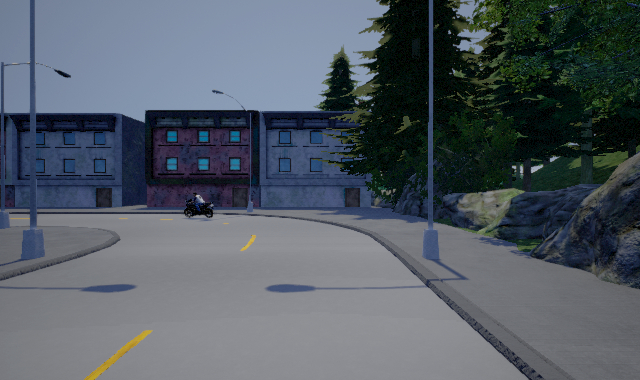motobike: (184, 191, 214, 218)
